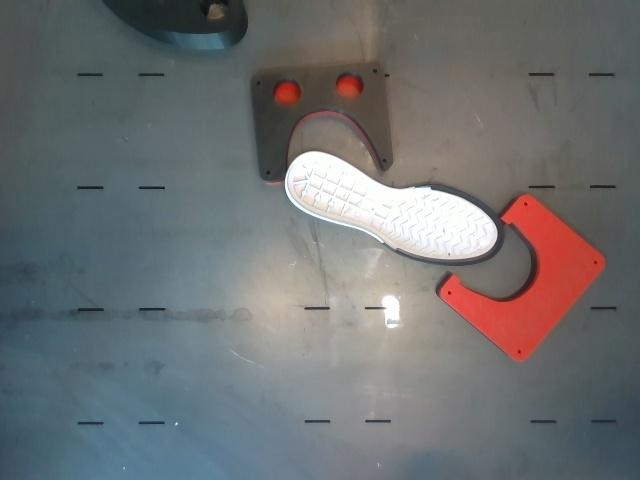shoes: (286, 152, 503, 265)
